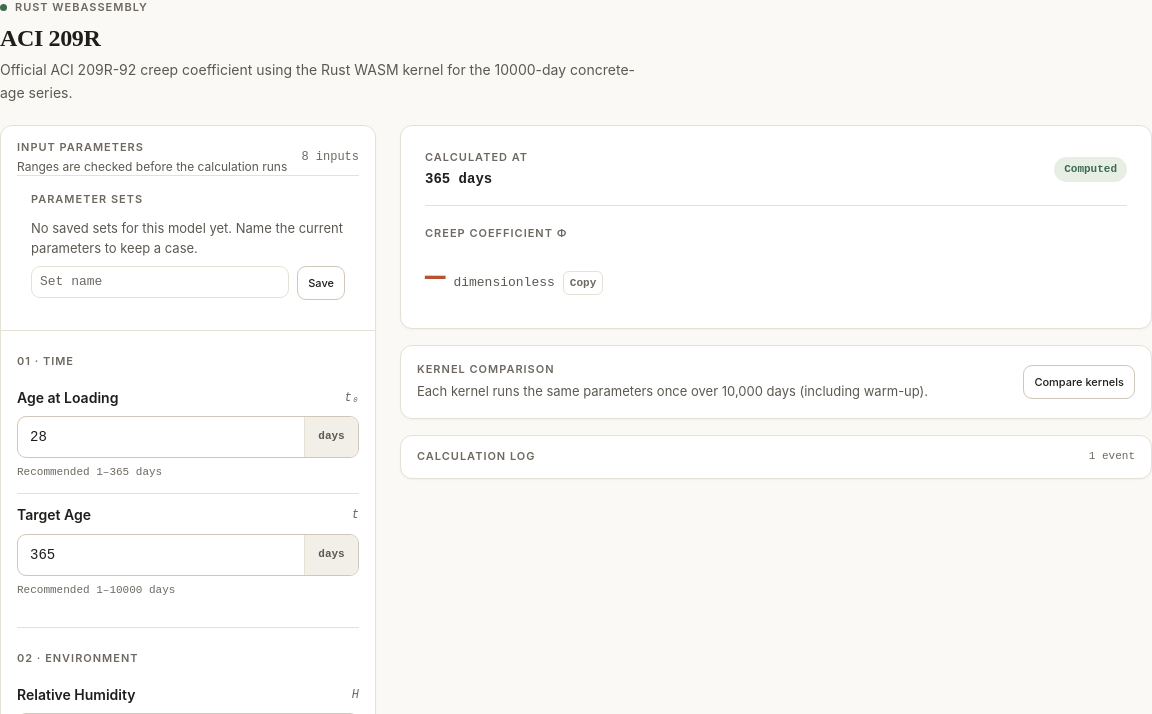
Test case: kernel comparison › times both kernels over the full series and reports the speed-up
Click the button "Compare kernels": click(1079, 382) [1023,365,1135,399]
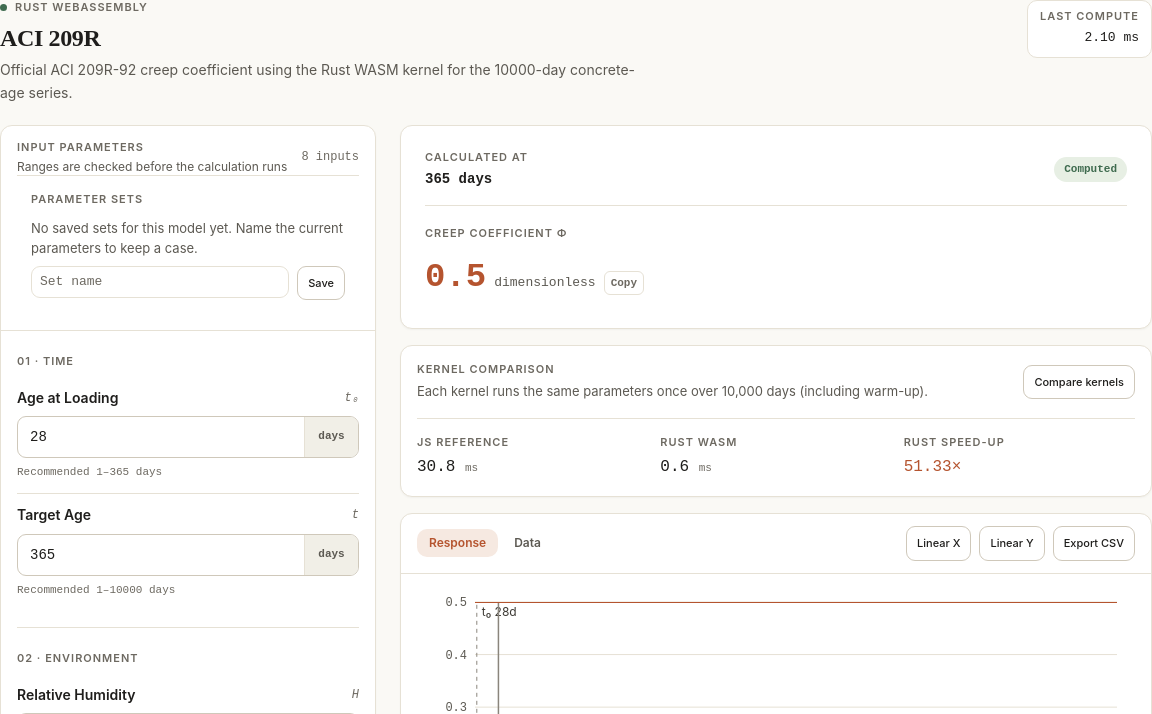
Check: the text "Rust speed-up" is shown, box [904,435,1005,449]
Check: the text "JS reference" is shown, box [417,435,509,449]
Check: the text "Rust WASM" is shown, box [660,435,737,449]
